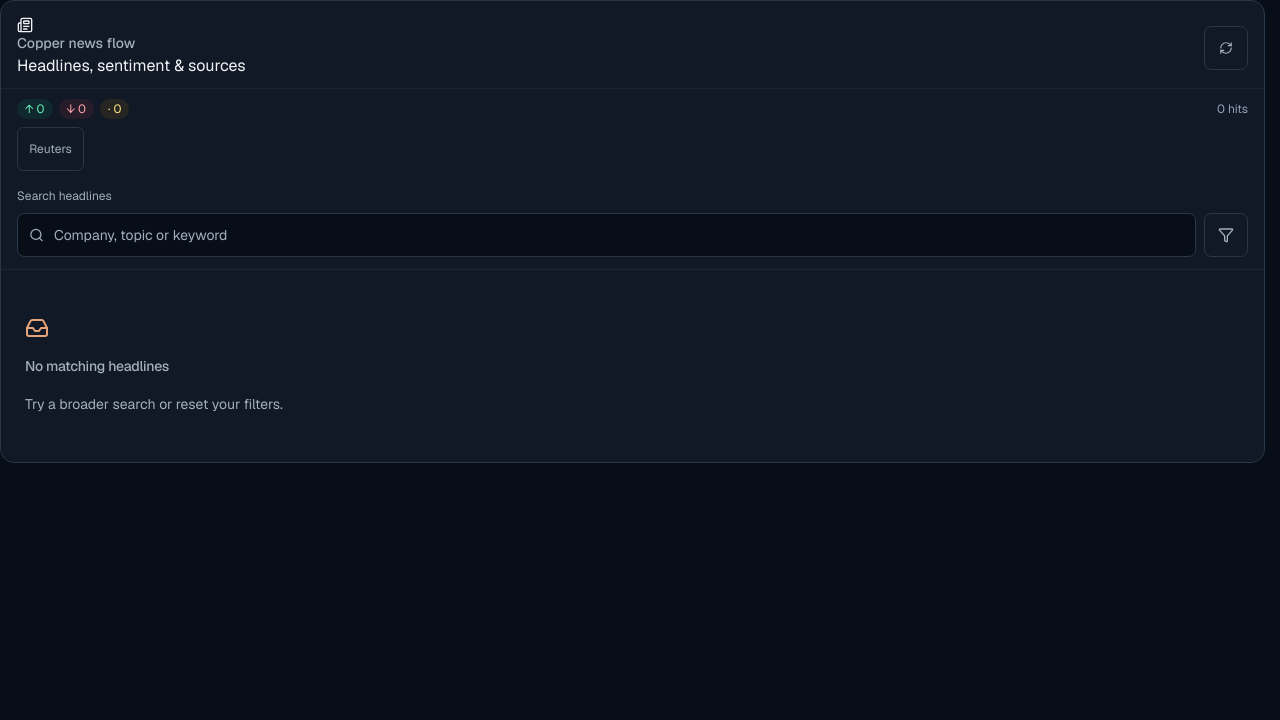
Test case: debounces search and resets the effective query along with the visible input
Type "copper" into the search field labelled "Search headlines" at coordinates (606, 235), box x1=17 y1=213 x2=1196 y2=257
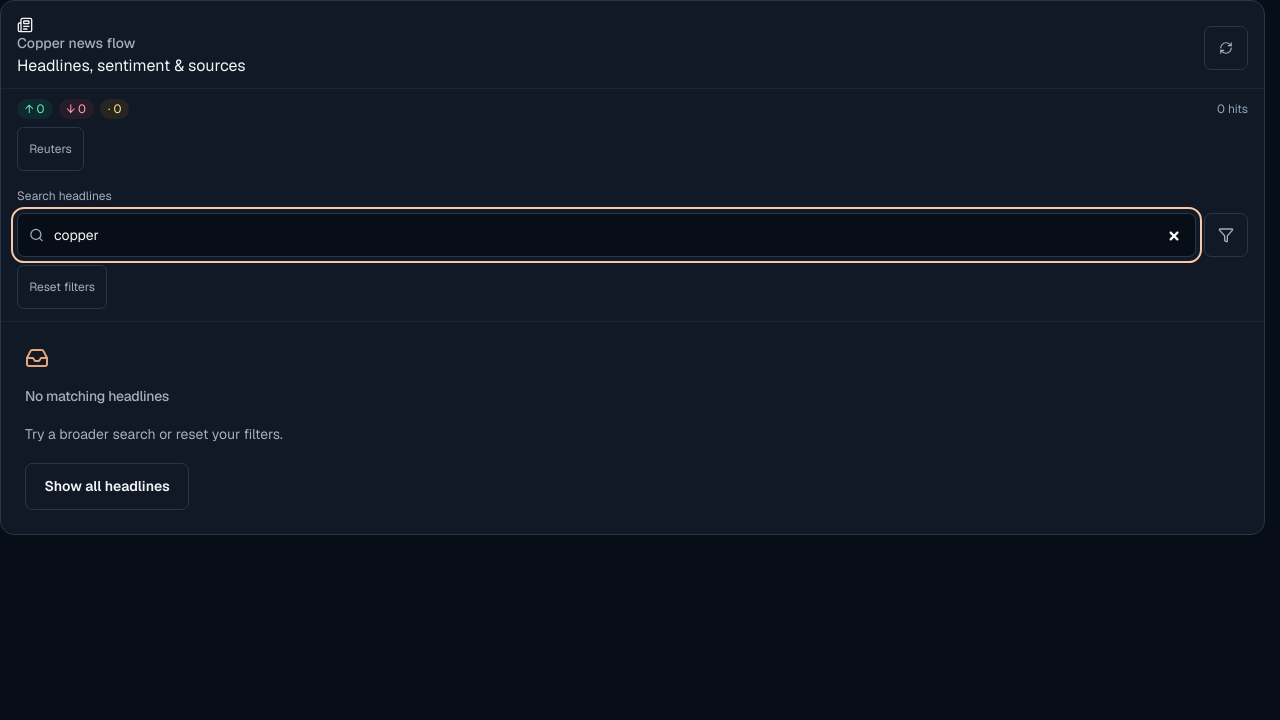
Click the button "Reset filters" at coordinates (62, 287), box x1=17 y1=265 x2=107 y2=309
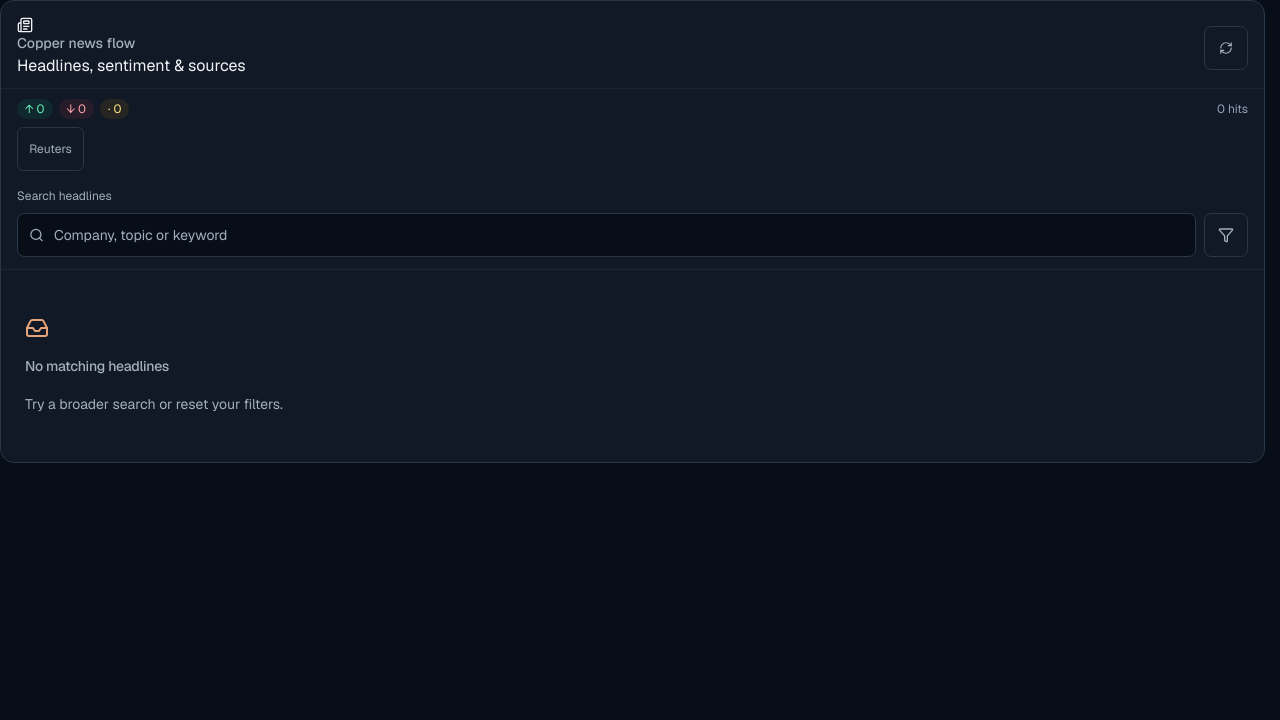
Check: the search field is empty, box x1=17 y1=213 x2=1196 y2=257
